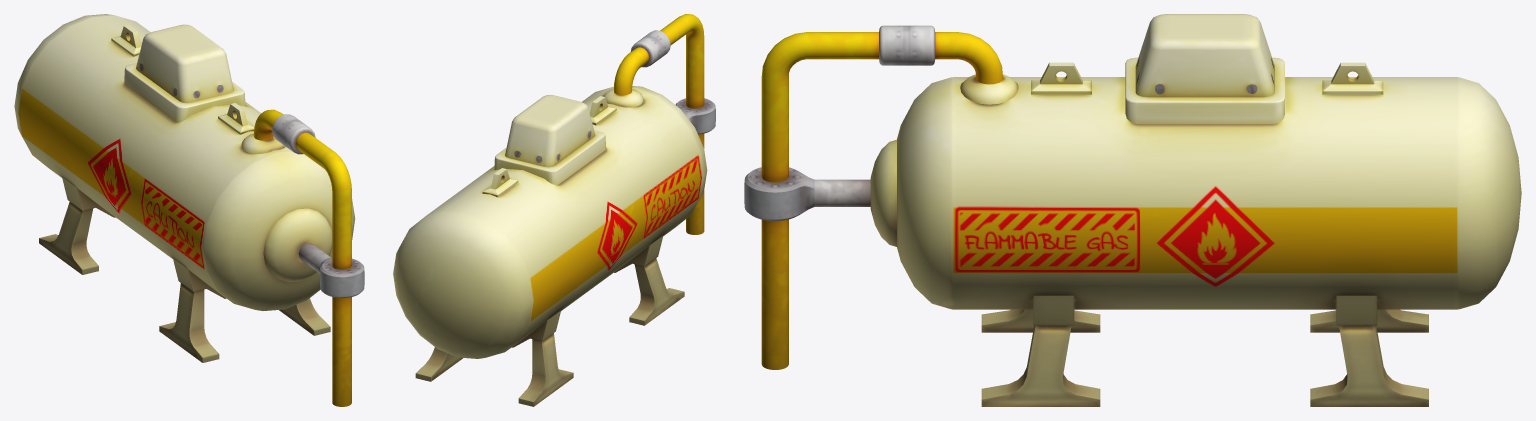
File: GasTank01.FBX
The picture shows the model from 3 angles, left to right: view 1: azimuth 30°, elevation 25°; view 2: azimuth 150°, elevation 25°; view 3: azimuth 270°, elevation 25°; orthographic projection. The views are drawn at different scales.
Visible parts, largest first — view 1: GasTank01; view 2: GasTank01; view 3: GasTank01.
Boxes of the visible parts, x1=… form: GasTank01: x1=14, y1=14, x2=364, y2=406; GasTank01: x1=393, y1=14, x2=715, y2=406; GasTank01: x1=744, y1=14, x2=1521, y2=406.
Size of what is drawn, in the model's own units: 1.73 by 2.75 by 5.75.
